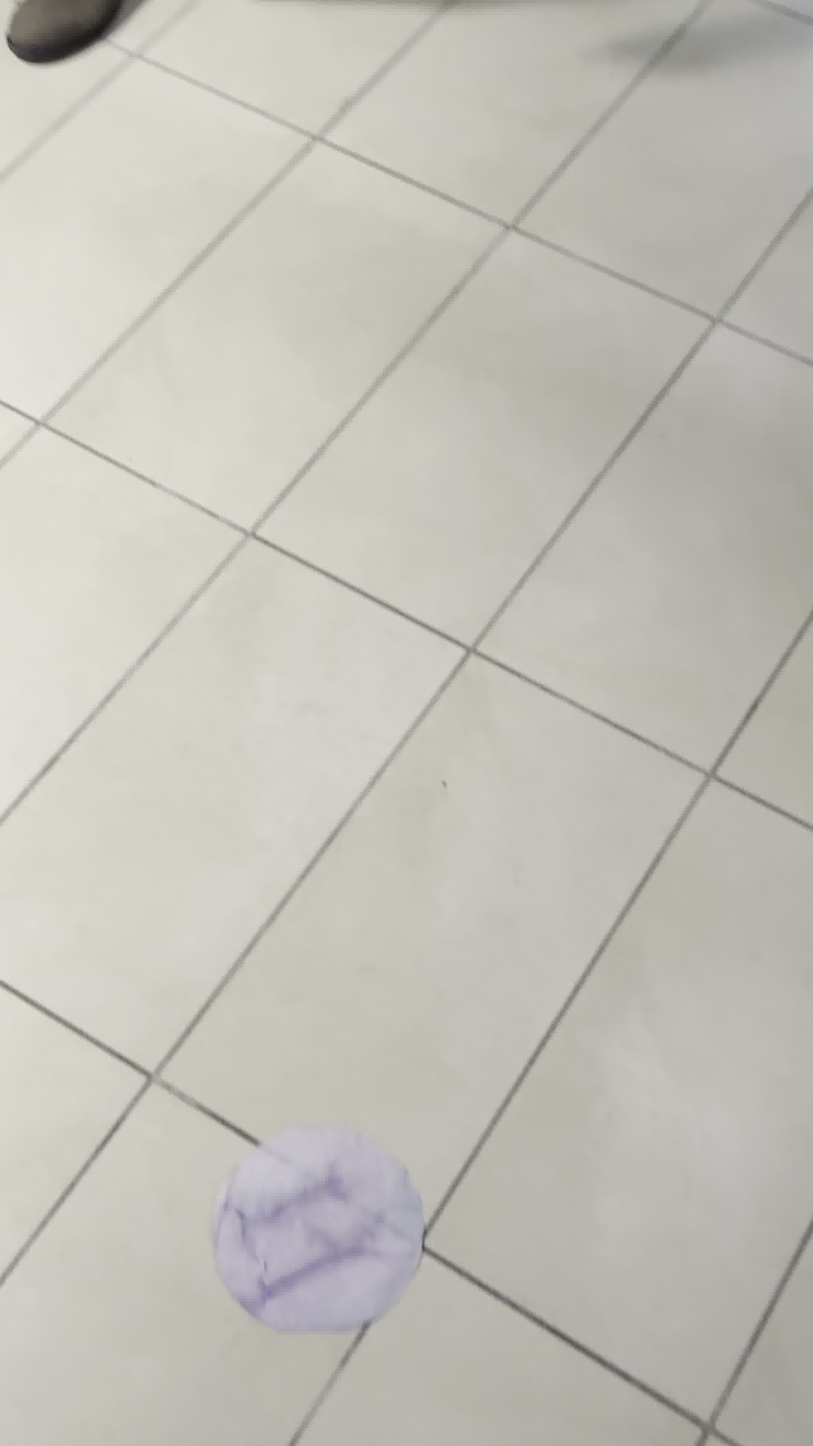Target: (207, 1129, 424, 1330)
